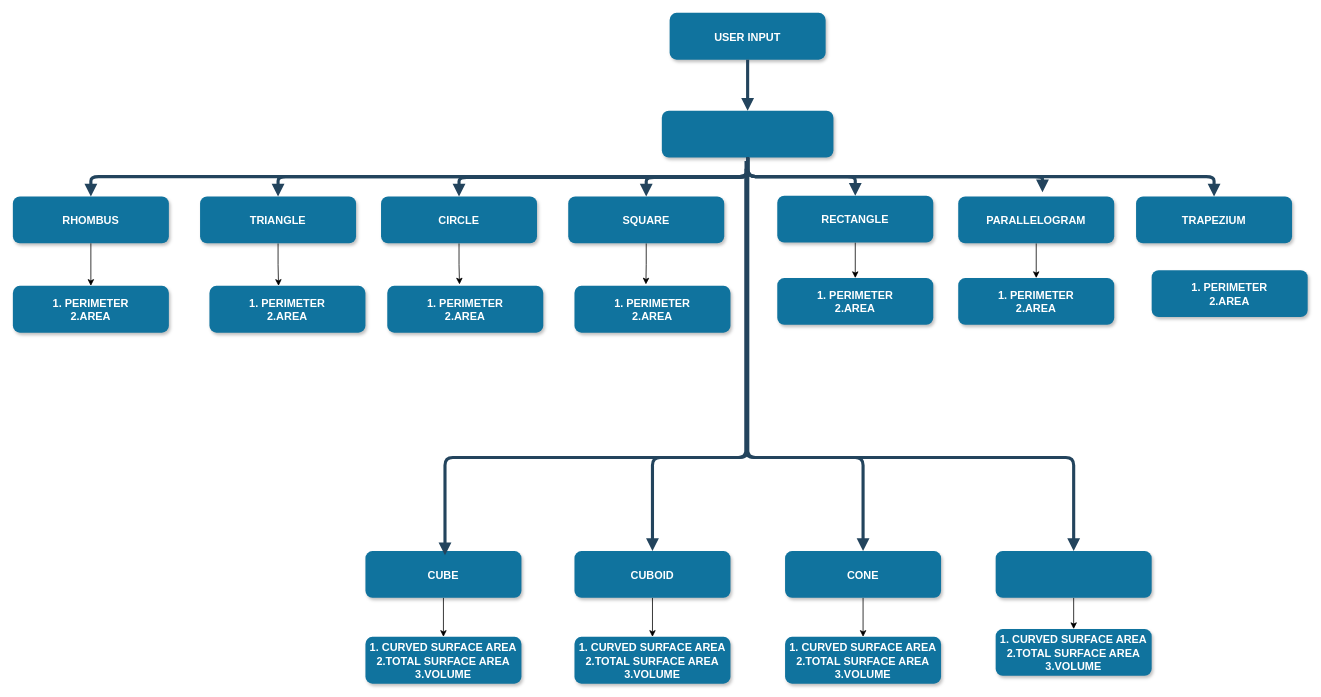
Image size: 1321x697. Some labels were removed from this diagram. Each missing label, with the centre of its shape:
"SHAPES" belongs at point (748, 135).
"SPHERE" belongs at point (1074, 575).
